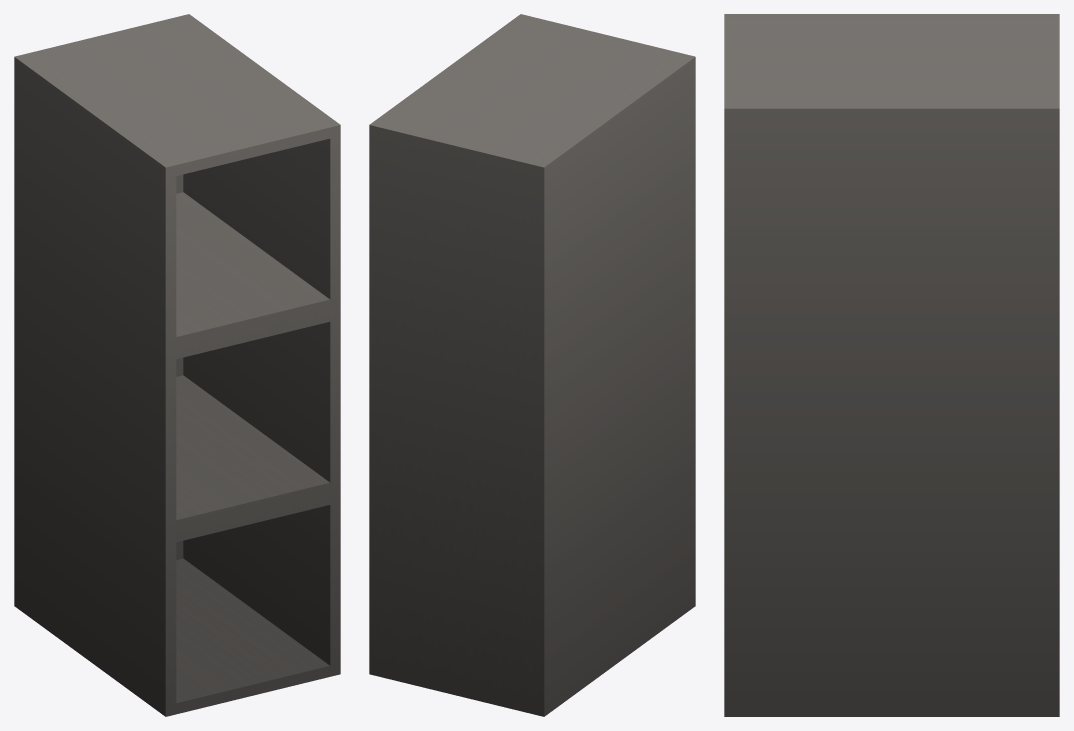
Rendered from FilingCabinetThreeStack_Case.fbx.
3 views of the same model, side by side, from view 1: azimuth 30°, elevation 25°; view 2: azimuth 150°, elevation 25°; view 3: azimuth 270°, elevation 25° (orthographic). The views are drawn at different scales.
Parts seen in each view (by area): view 1: FilingCabinetThreeStack_Case; view 2: FilingCabinetThreeStack_Case; view 3: FilingCabinetThreeStack_Case.
Boxes of the visible parts, x1=… form: FilingCabinetThreeStack_Case: x1=14, y1=14, x2=340, y2=716; FilingCabinetThreeStack_Case: x1=369, y1=14, x2=695, y2=716; FilingCabinetThreeStack_Case: x1=724, y1=14, x2=1059, y2=716.
Size of the model in its own units: 37.98 by 114 by 56.97.
